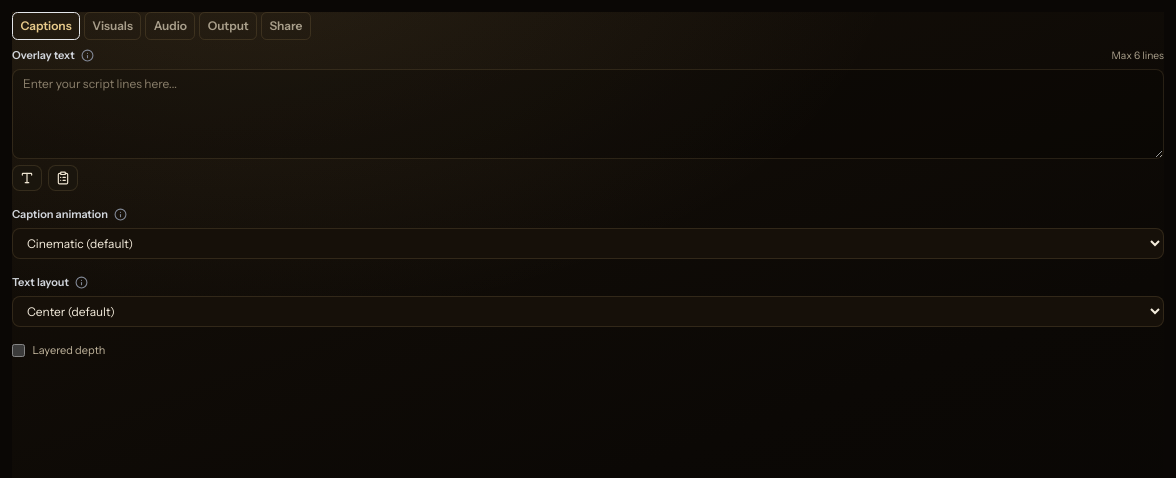
Test: RenderLab (embedded in the Timeline editor) › Output tab carries frame, duration, caption width and delivery - nothing left on the classic page
Click the tab "Output". click: {"x": 228, "y": 26}
box: [199, 12, 257, 40]
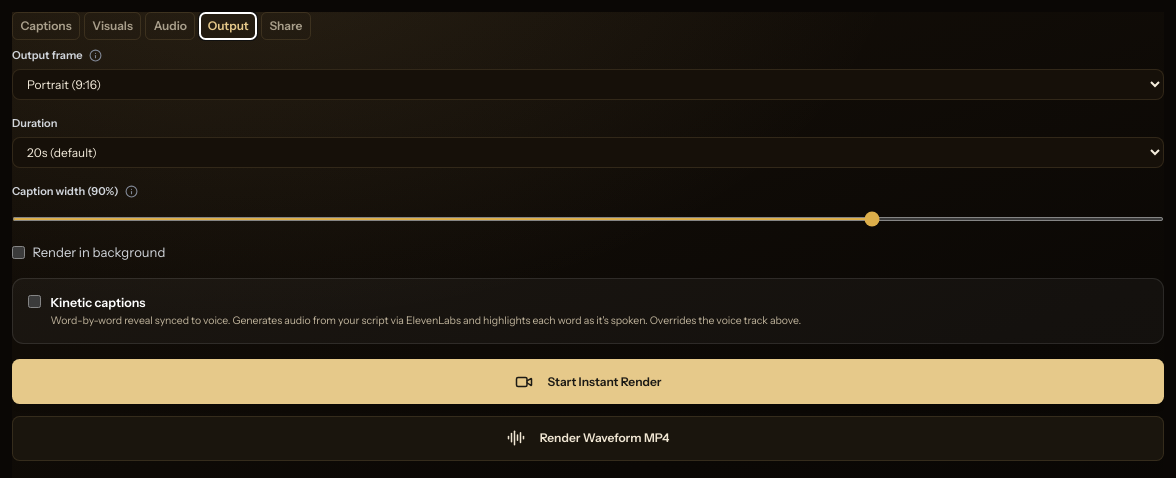
expect the text "Output frame" is shown: met, box [12, 47, 83, 64]
expect the text "Duration" is shown: met, box [12, 115, 57, 132]
expect the text "Caption width (90%)" is shown: met, box [12, 183, 118, 200]
